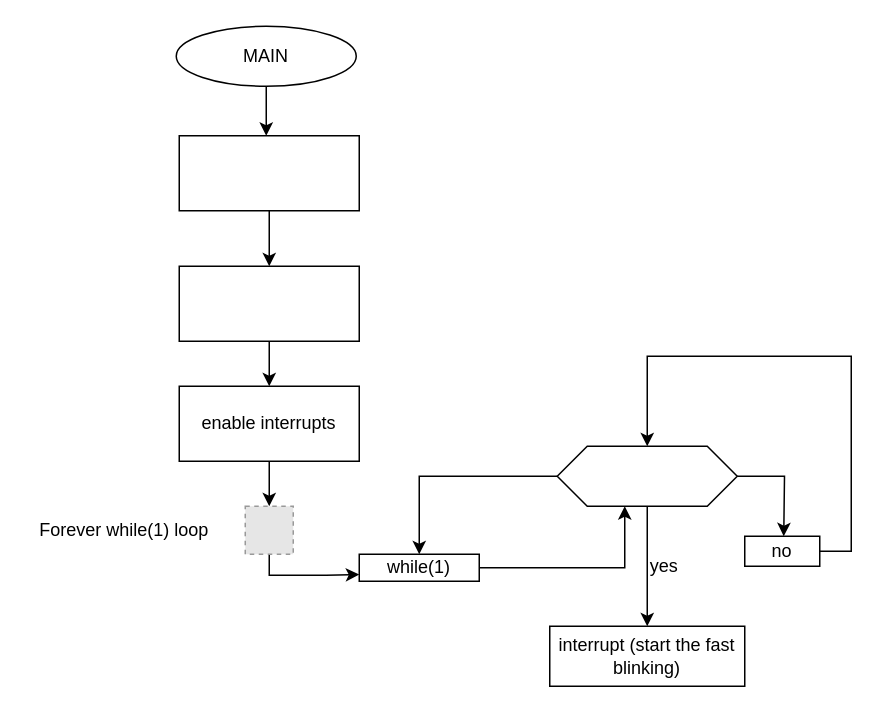
Some shapes in this 890 by 713 pixel diagram are drawn without their labels. Grey dashed boxes stand in for pictures. Here are the shapes that lost their labels. From the top down, the centre of each, then its label:
the point at 268,172: set LED
the point at 268,303: Set Timer and Enable
the point at 646,475: if button pressed
